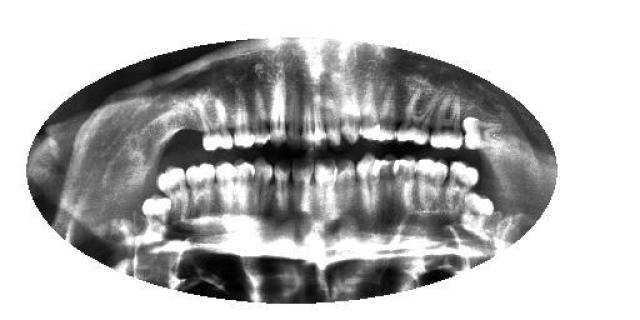Restorations: (462, 116, 508, 152), (460, 188, 495, 234), (143, 192, 175, 232)
